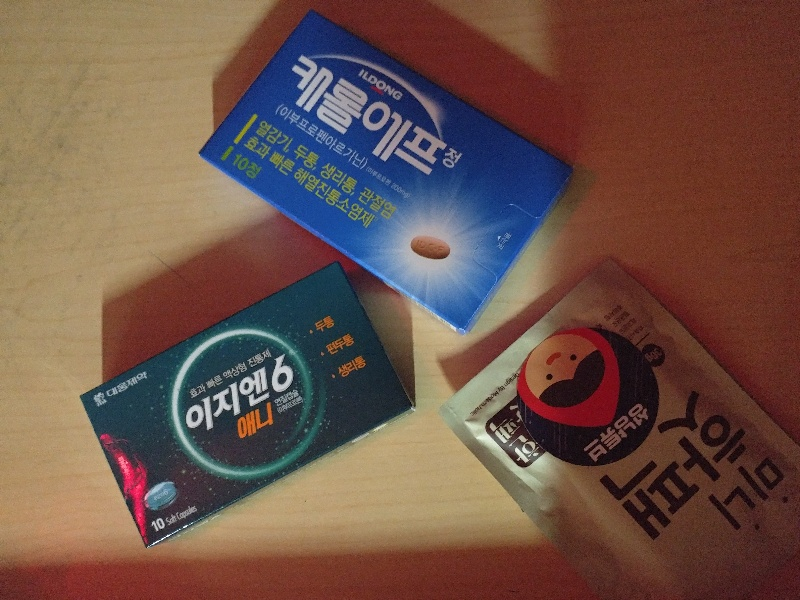carolF: (197, 8, 575, 324)
ezn: (76, 265, 411, 546)
